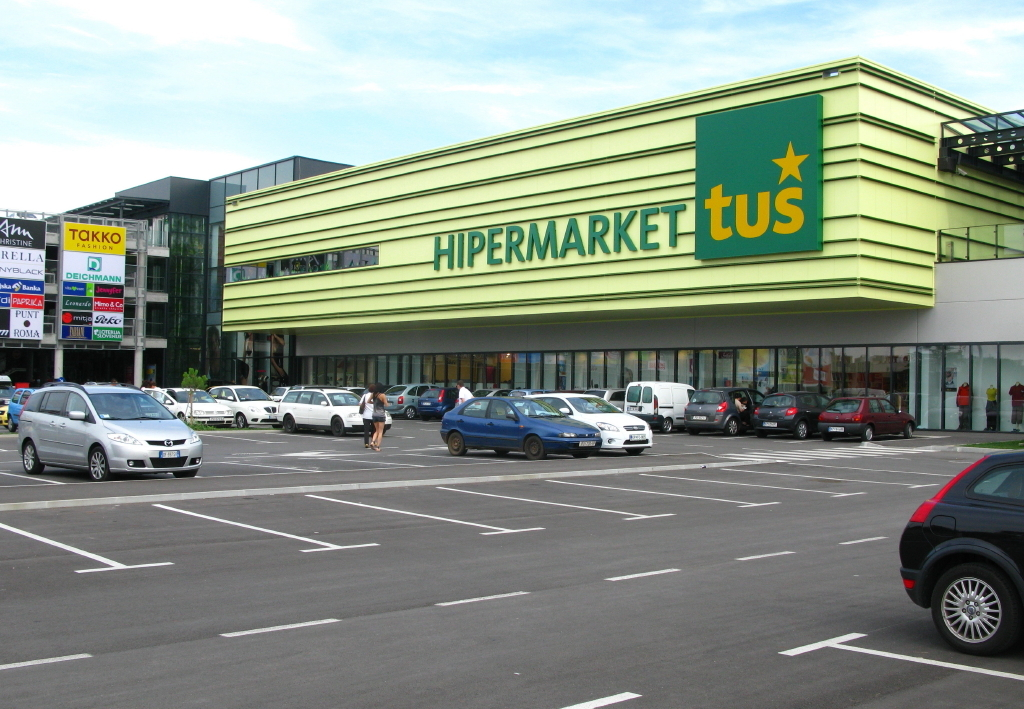Car: (147, 381, 924, 461), (901, 446, 1022, 653), (10, 377, 206, 485), (12, 386, 35, 427)
